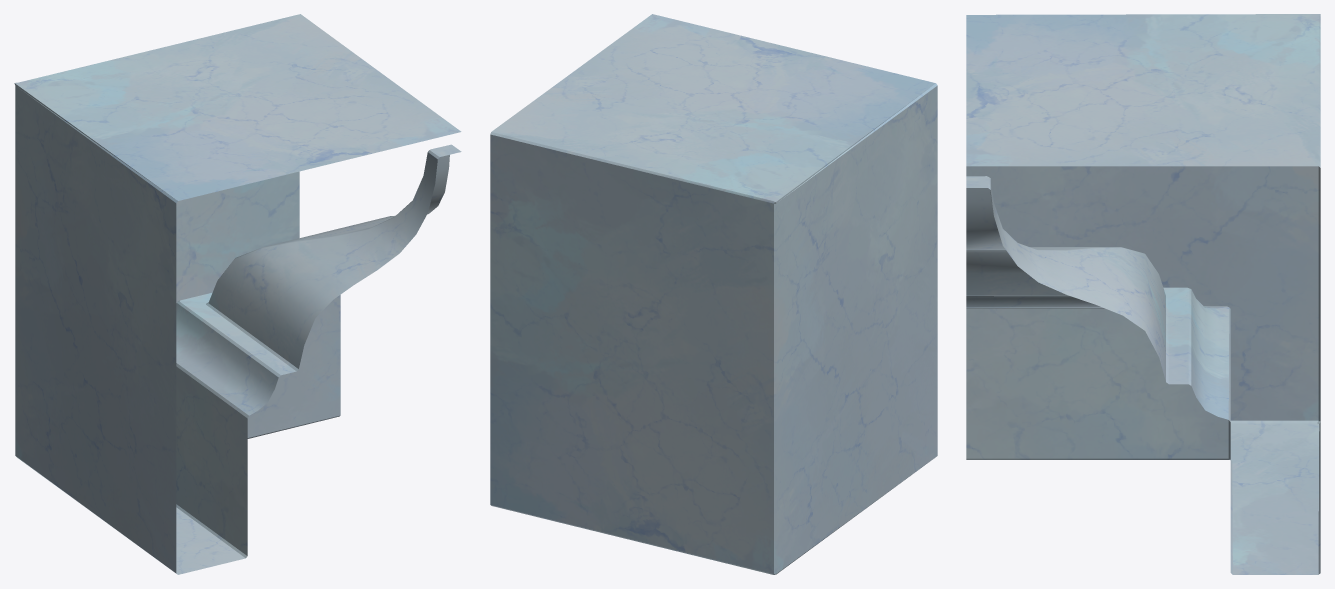
File: Roof bas-relief corner external.fbx
3 views of the same model, side by side, from view 1: azimuth 30°, elevation 25°; view 2: azimuth 150°, elevation 25°; view 3: azimuth 270°, elevation 25° (orthographic). The views are drawn at different scales.
Visible parts, largest first — view 1: Roof bas-relief corner external; view 2: Roof bas-relief corner external; view 3: Roof bas-relief corner external.
Boxes of the visible parts, x1,y1,x2,y2 form: Roof bas-relief corner external: (14, 14, 461, 574); Roof bas-relief corner external: (490, 14, 937, 574); Roof bas-relief corner external: (966, 14, 1320, 574).
Bounding box in the file's own units: 83.7 × 105 × 82.35.
